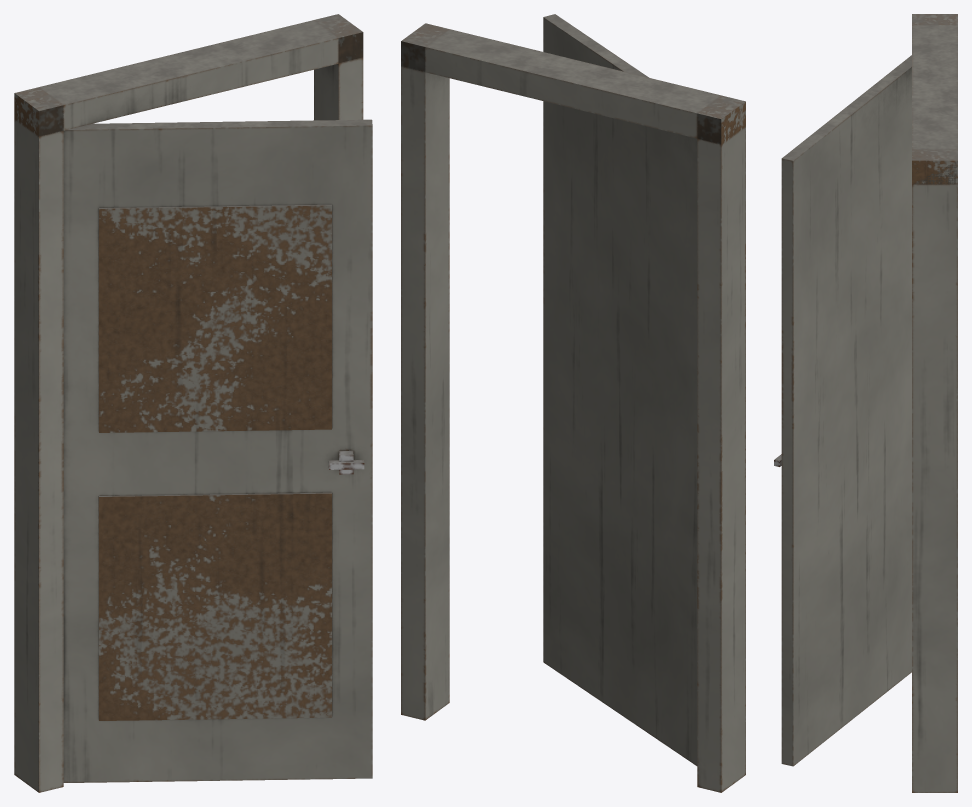
File: SM_Door_Wooden_Frame.fbx
3 views of the same model, side by side, from view 1: azimuth 30°, elevation 25°; view 2: azimuth 150°, elevation 25°; view 3: azimuth 270°, elevation 25° (orthographic). The views are drawn at different scales.
Visible parts, largest first — view 1: SM_Door_Wooden_Frame; view 2: SM_Door_Wooden_Frame; view 3: SM_Door_Wooden_Frame.
Part boxes in pixels (x1,y1,x2,y2): SM_Door_Wooden_Frame: (14,14,372,792); SM_Door_Wooden_Frame: (401,14,745,792); SM_Door_Wooden_Frame: (774,14,957,792).
Bounding box in the file's own units: 1.06 × 2.13 × 0.5614.
Materials: 1 (1 with a texture image).
